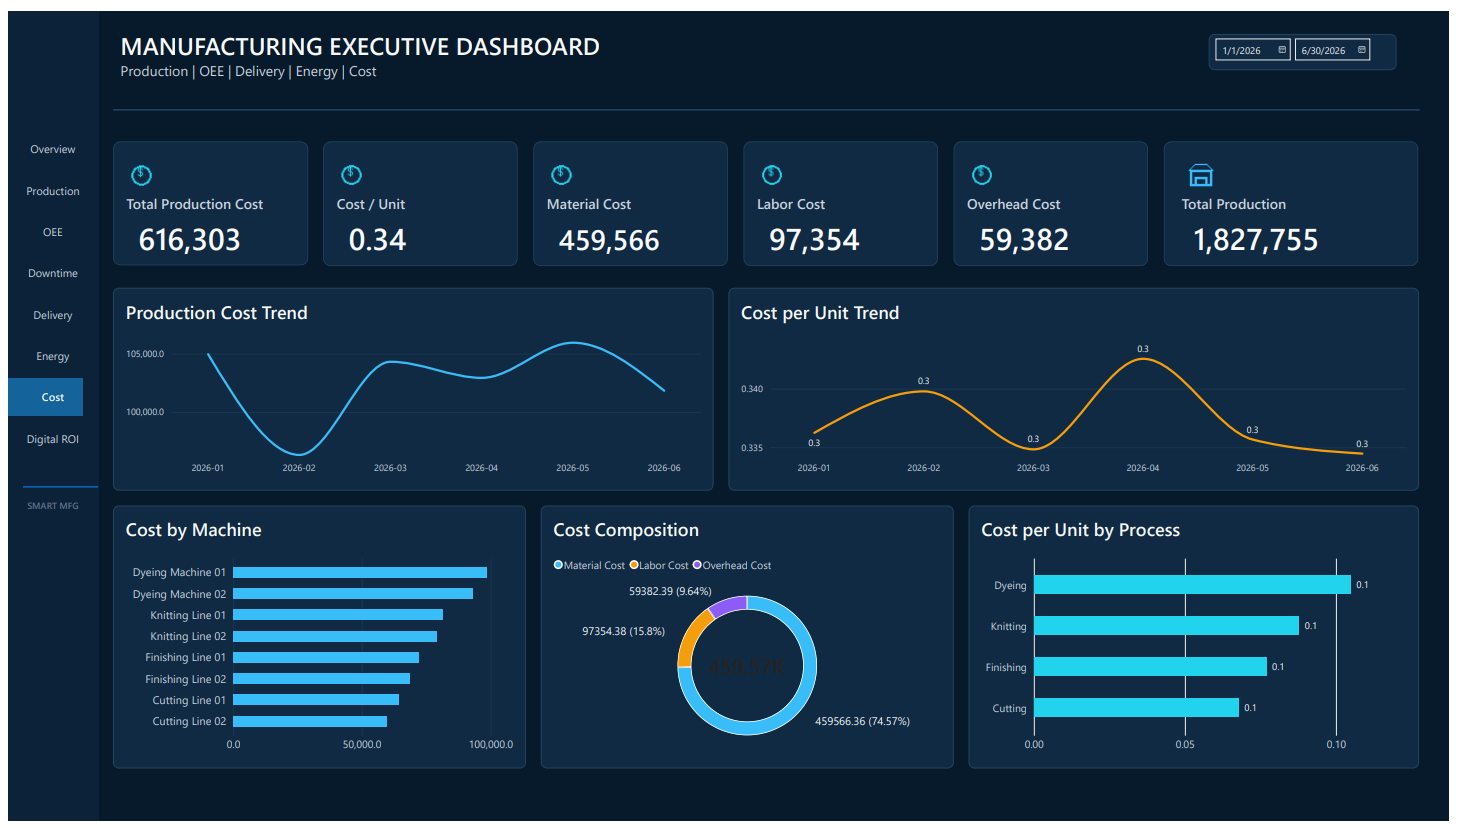

This screenshot's page, from the dashboard's own definition file:
{"tool":"powerbi","page":{"name":"Cost","canvas":[1920,1080],"ordinal":6},"visuals":[{"type":"textbox","box":[150,25,900,85],"z":0},{"type":"shape","box":[140,175,260,165],"z":0,"group":"g6"},{"type":"shape","box":[420,175,259.3,165.7],"z":0,"group":"g5"},{"type":"shape","box":[700,175,259.3,165.7],"z":0,"group":"g4"},{"type":"shape","box":[980,175,259.3,165.7],"z":0,"group":"g3"},{"type":"shape","box":[1260,175,259.3,165.7],"z":0,"group":"g2"},{"type":"shape","box":[1540,175,339.2,165.7],"z":0,"group":"g1"},{"type":"slicer","fields":{"Values":["Date_Table.Date"]},"box":[1600,32,250,48],"z":1000},{"type":"image","box":[158.2,198,38.3,42],"z":1000,"group":"g6"},{"type":"image","box":[438.2,198.1,38.2,42.2],"z":1000,"group":"g5"},{"type":"image","box":[718.2,198.1,38.2,42.2],"z":1000,"group":"g4"},{"type":"image","box":[998.2,198.1,38.2,42.2],"z":1000,"group":"g3"},{"type":"image","box":[1278.2,198.1,38.2,42.2],"z":1000,"group":"g2"},{"type":"image","box":[1563.8,198.1,50,42.2],"z":1000,"group":"g1"},{"type":"group","id":"g1","title":"Orders","box":[1540,175,340,165],"z":2000},{"type":"textbox","box":[158.2,245,182.5,30],"z":2000,"group":"g6"},{"type":"textbox","box":[438.2,245.3,182,30.1],"z":2000,"group":"g5"},{"type":"textbox","box":[718.2,245.3,182,30.1],"z":2000,"group":"g4"},{"type":"textbox","box":[998.2,245.3,182,30.1],"z":2000,"group":"g3"},{"type":"textbox","box":[1278.2,245.3,182,30.1],"z":2000,"group":"g2"},{"type":"textbox","box":[1563.8,245.3,238,30.1],"z":2000,"group":"g1"},{"type":"group","id":"g2","title":"Downtime","box":[1260,175,260,165],"z":3000},{"type":"cardVisual","fields":{"Data":["_measure.Total Production Cost"]},"box":[158.2,280,209.8,45],"z":3000,"group":"g6"},{"type":"cardVisual","fields":{"Data":["_measure.Cost Per Unit"]},"box":[438.2,280.5,209.3,45.2],"z":3000,"group":"g5"},{"type":"cardVisual","fields":{"Data":["_measure.Material Cost"]},"box":[718.2,280.5,209.3,45.2],"z":3000,"group":"g4"},{"type":"cardVisual","fields":{"Data":["_measure.Labor Cost"]},"box":[998.2,280.5,209.3,45.2],"z":3000,"group":"g3"},{"type":"cardVisual","fields":{"Data":["_measure.Overhead Cost"]},"box":[1278.2,280.5,209.3,45.2],"z":3000,"group":"g2"},{"type":"cardVisual","fields":{"Data":["_measure.Total Production"]},"box":[1563.8,280.5,273.7,45.2],"z":3000,"group":"g1"},{"type":"group","id":"g3","title":"OEE","box":[980,175,260,165],"z":4000},{"type":"group","id":"g4","title":"Achievement","box":[700,175,260,165],"z":5000},{"type":"group","id":"g5","title":"Target","box":[420,175,260,165],"z":6000},{"type":"group","id":"g6","title":"Production","box":[140,175,260,165],"z":7000},{"type":"lineChart","title":"Production Cost Trend","fields":{"Category":["Date_Table.Year Month"],"Y":["_measure.Total Production Cost"]},"box":[140,370,800,270],"z":8000},{"type":"lineChart","title":"Cost per Unit Trend","fields":{"Category":["Date_Table.Year Month"],"Y":["_measure.Cost Per Unit"]},"box":[960,370,920,270],"z":9000},{"type":"clusteredBarChart","title":"Cost by Machine","fields":{"Category":["Cost.Machine Name"],"Y":["_measure.Total Production Cost"]},"box":[140,660,550,350],"z":10000},{"type":"donutChart","title":"Cost Composition","fields":{"Y":["_measure.Material Cost","_measure.Labor Cost","_measure.Overhead Cost"]},"box":[710,660,550,350],"z":11000},{"type":"clusteredBarChart","title":"Cost per Unit by Process","fields":{"Category":["Cost.Process"],"Y":["_measure.Cost Per Unit"]},"box":[1280,660,600,350],"z":12000},{"type":"shape","title":"Sidebar Background","box":[0,0,120,1080],"z":13000},{"type":"shape","box":[0,491.4,99.4,49.7],"z":14000},{"type":"textbox","box":[10,174,100,25],"z":15000},{"type":"textbox","box":[10,230,100,25],"z":16000},{"type":"textbox","box":[10,285,100,25],"z":17000},{"type":"textbox","box":[10,340,100,25],"z":18000},{"type":"textbox","box":[10,395,100,25],"z":19000},{"type":"textbox","box":[10,450,100,25],"z":20000},{"type":"textbox","box":[10,505,100,25],"z":21000},{"type":"textbox","box":[10,560,100,25],"z":22000},{"type":"shape","box":[20,625,100,20],"z":23000},{"type":"textbox","box":[10,650,100,25],"z":24000},{"type":"shape","box":[140,106.4,1741.2,53.9],"z":25000}]}

Visuals, with their boxes in screenshot pixels (x1, y1, x2, y2), scaled from the page's 1920x1080 canvas onto the 1459x828 screenshot:
textbox: 114/19/798/84
shape: 106/134/304/261
shape: 319/134/516/261
shape: 532/134/729/261
shape: 745/134/942/261
shape: 957/134/1155/261
shape: 1170/134/1428/261
slicer - Date_Table.Date: 1216/25/1406/61
image: 120/152/149/184
image: 333/152/362/184
image: 546/152/575/184
image: 759/152/788/184
image: 971/152/1000/184
image: 1188/152/1226/184
"Orders" group: 1170/134/1429/261
textbox: 120/188/259/211
textbox: 333/188/471/211
textbox: 546/188/684/211
textbox: 759/188/897/211
textbox: 971/188/1110/211
textbox: 1188/188/1369/211
"Downtime" group: 957/134/1155/261
cardVisual - _measure.Total Production Cost: 120/215/280/249
cardVisual - _measure.Cost Per Unit: 333/215/492/250
cardVisual - _measure.Material Cost: 546/215/705/250
cardVisual - _measure.Labor Cost: 759/215/918/250
cardVisual - _measure.Overhead Cost: 971/215/1130/250
cardVisual - _measure.Total Production: 1188/215/1396/250
"OEE" group: 745/134/942/261
"Achievement" group: 532/134/730/261
"Target" group: 319/134/517/261
"Production" group: 106/134/304/261
"Production Cost Trend" lineChart: 106/284/714/491
"Cost per Unit Trend" lineChart: 730/284/1429/491
"Cost by Machine" clusteredBarChart: 106/506/524/774
"Cost Composition" donutChart: 540/506/957/774
"Cost per Unit by Process" clusteredBarChart: 973/506/1429/774
"Sidebar Background" shape: 0/0/91/827
shape: 0/377/76/415
textbox: 8/133/84/153
textbox: 8/176/84/196
textbox: 8/219/84/238
textbox: 8/261/84/280
textbox: 8/303/84/322
textbox: 8/345/84/364
textbox: 8/387/84/406
textbox: 8/429/84/449
shape: 15/479/91/495
textbox: 8/498/84/518
shape: 106/82/1430/123
